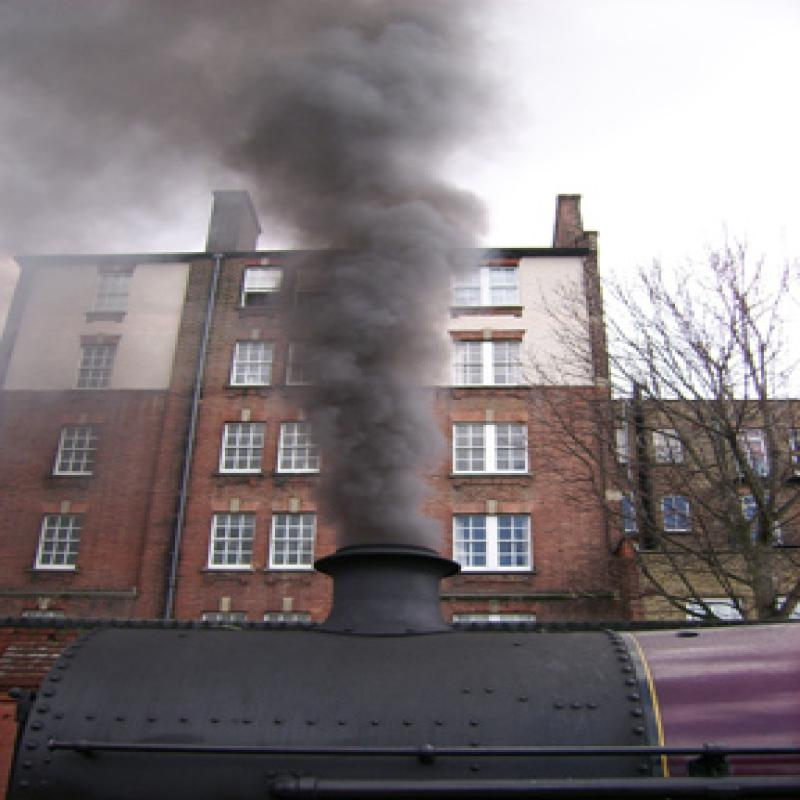train: (1, 538, 793, 799)
